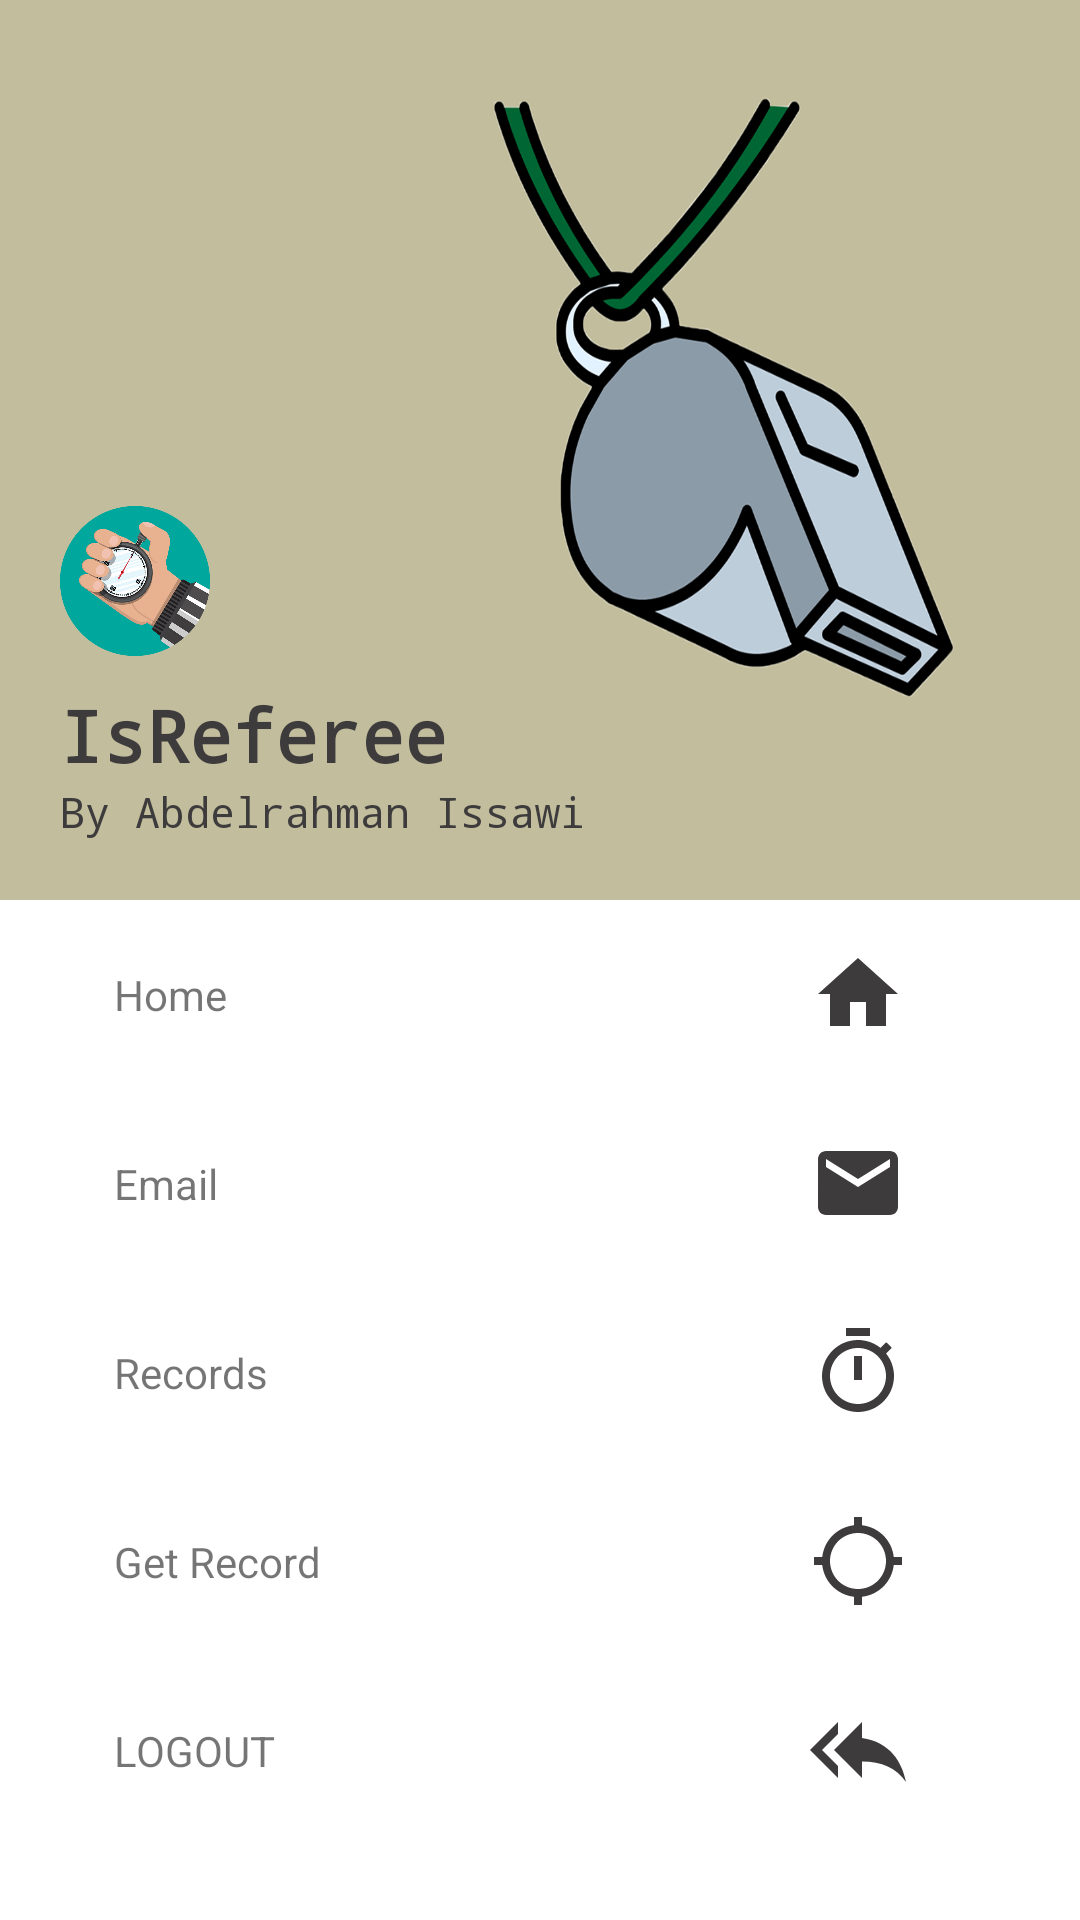

Named icons in this screenshot (1080x1920) and their bounding boxes, [x1=x1, y1=y1, x2=x2, y2=y2]:
timer: [x1=822, y1=1328, x2=894, y2=1412]
